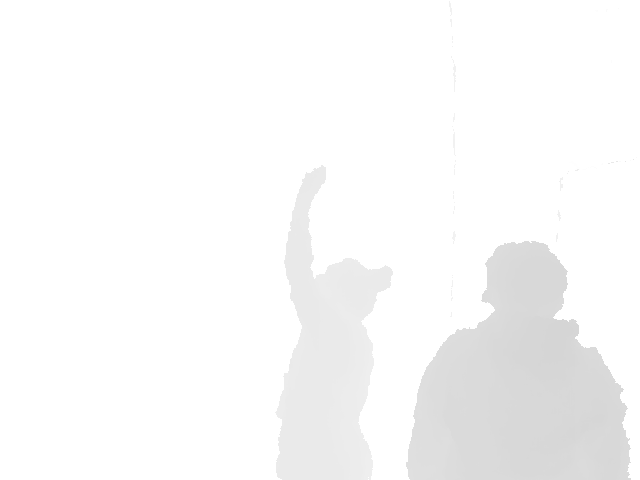hand: (300, 165, 326, 200)
head: (482, 239, 569, 326), (310, 257, 392, 329)
person: (405, 239, 631, 480), (273, 165, 393, 480)
